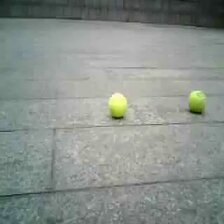tennis: (108, 95, 126, 116), (189, 93, 206, 111)
